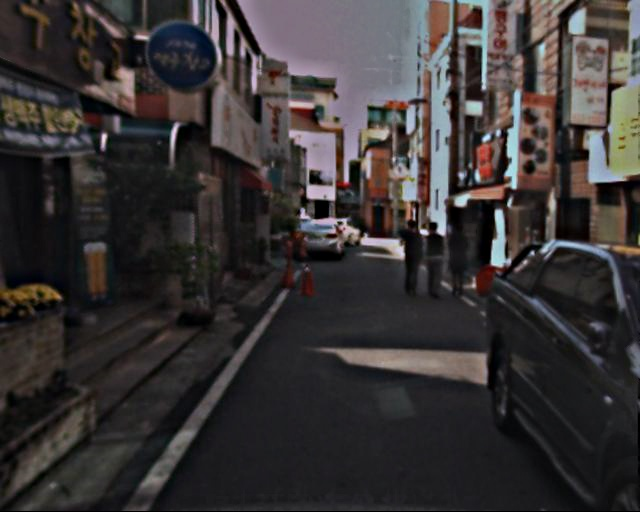person: (414, 217, 449, 302), (440, 218, 474, 301), (394, 222, 425, 297)
